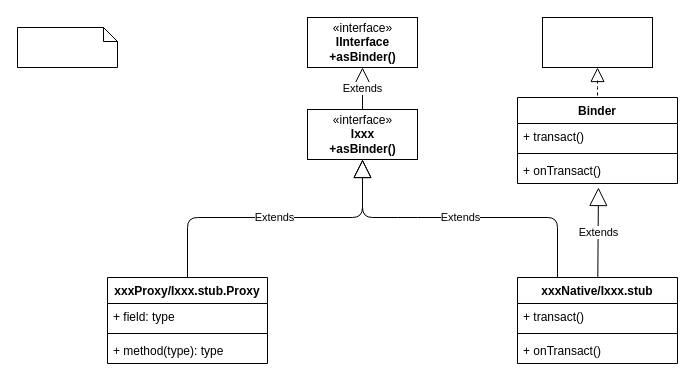
This 695x384 diagram has some shape labels left out. The box of each missing label's shape, as (x1, y1, x2, y2) in pixels:
Java层的Binder跨进程: (16, 26, 118, 68)
«interface» IBinder +transact(): (542, 16, 652, 68)
